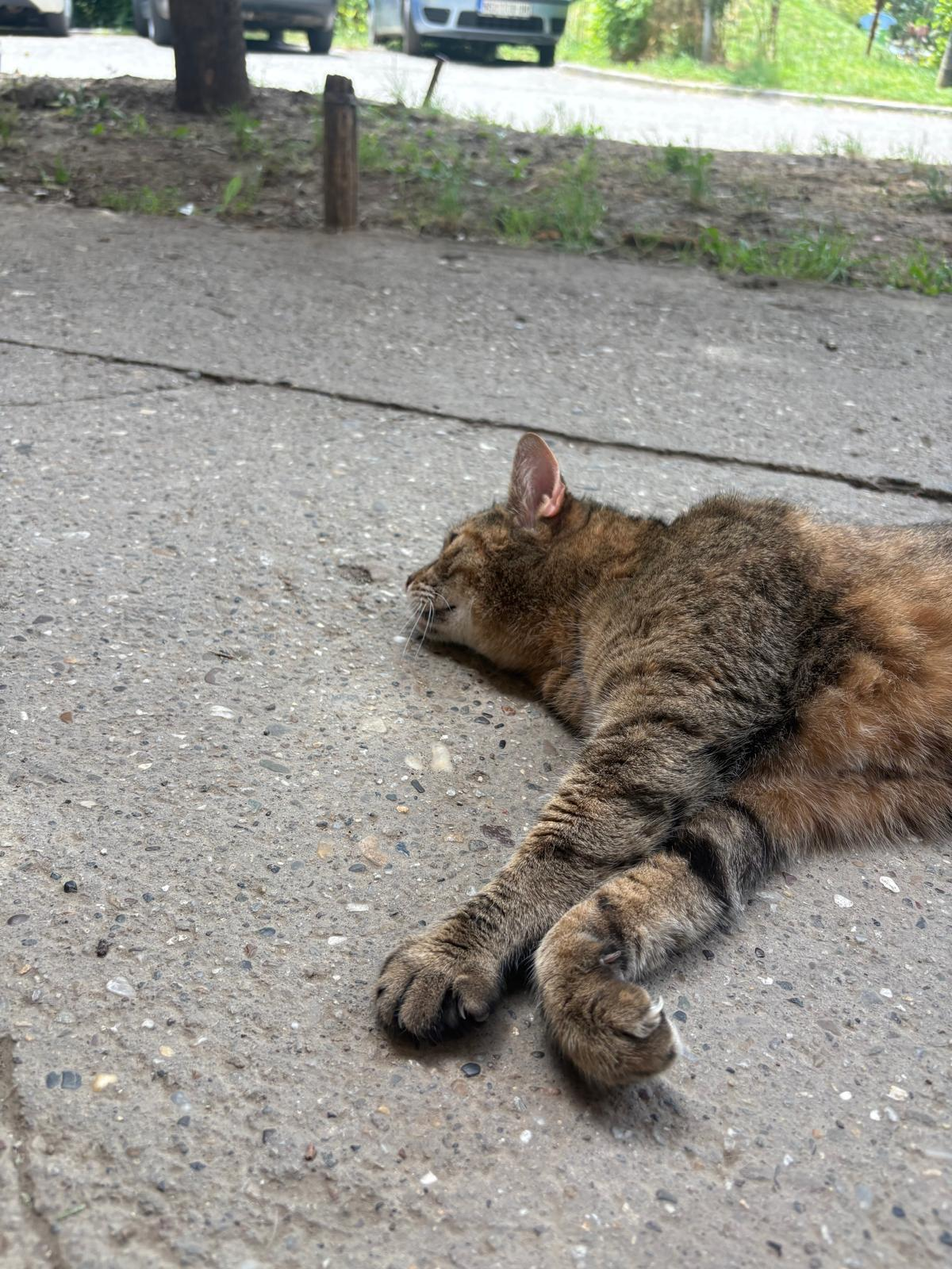macka: (377, 426, 951, 1092)
